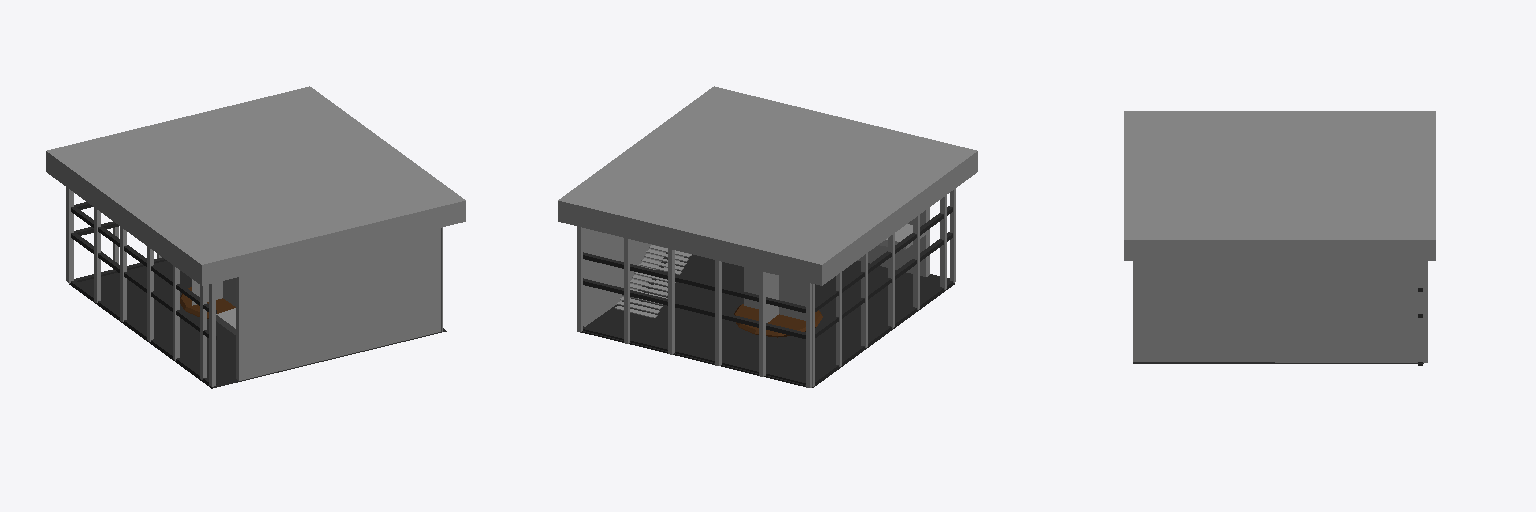
File: bodys.obj
3 renders of one model, left to right at view 1: azimuth 30°, elevation 25°; view 2: azimuth 150°, elevation 25°; view 3: azimuth 270°, elevation 25°, orthographic.
Visible parts, largest first — view 1: Box059, Box002, Plane001, Box060, Box054, Box055, Box052, Box050, Box049, Box048, Box046, Box051 (+1 smaller); view 2: Box059, Plane001, Box001, Plane002, Box053, Box056, Box061, Box002, Box060, Box054, Box055, ChamferCyl001 (+10 smaller); view 3: Box059, Box001, Box032.
Part boxes in pixels (bbox=[...]): Box059: bbox=[46, 86, 465, 285]; Box002: bbox=[236, 228, 440, 380]; Plane001: bbox=[78, 261, 446, 387]; Box060: bbox=[69, 280, 216, 388]; Box054: bbox=[71, 232, 216, 339]; Box055: bbox=[71, 206, 216, 313]; Box052: bbox=[209, 283, 215, 386]; Box050: bbox=[94, 208, 100, 302]; Box049: bbox=[120, 227, 126, 321]; Box048: bbox=[147, 246, 153, 341]; Box046: bbox=[200, 285, 206, 379]; Box051: bbox=[67, 188, 73, 283]; Box059: bbox=[558, 86, 977, 285]; Plane001: bbox=[583, 254, 949, 385]; Box001: bbox=[583, 228, 688, 326]; Plane002: bbox=[744, 267, 805, 320]; Box053: bbox=[583, 278, 805, 338]; Box056: bbox=[583, 252, 805, 312]; Box061: bbox=[581, 326, 805, 386]; Box002: bbox=[857, 208, 929, 276]; Box060: bbox=[812, 280, 954, 387]; Box054: bbox=[815, 232, 952, 337]; Box055: bbox=[815, 206, 952, 311]; ChamferCyl001: bbox=[734, 304, 822, 337]; Box059: bbox=[1124, 111, 1435, 260]; Box001: bbox=[1133, 261, 1427, 362]; Box032: bbox=[1138, 313, 1224, 319].
Size of the model in its own units: 182 by 106 by 186.